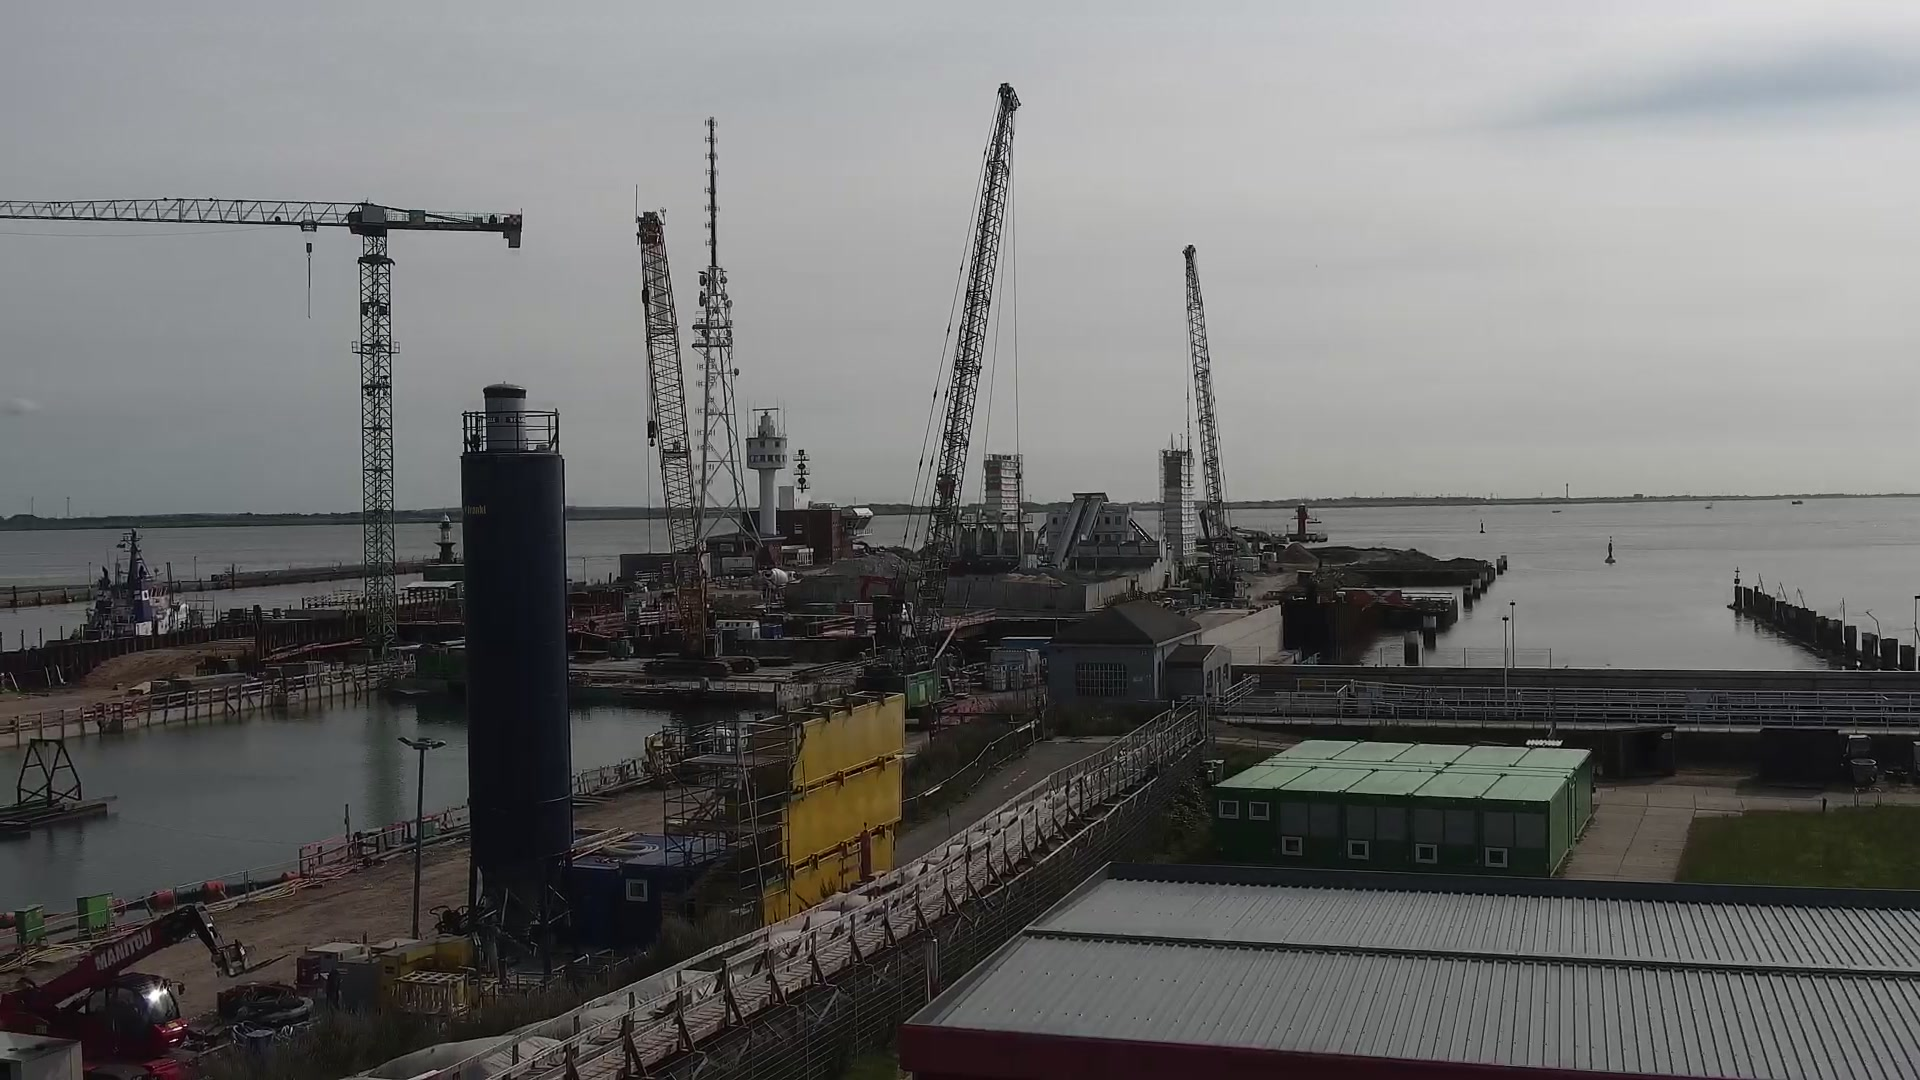land: (1, 899, 289, 1080)
sea: (38, 527, 215, 650), (1789, 500, 1804, 505), (1704, 501, 1713, 509)
